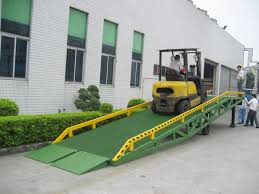Pallet Jack: (150, 46, 213, 116)
Yard Ramp: (26, 92, 243, 175)
